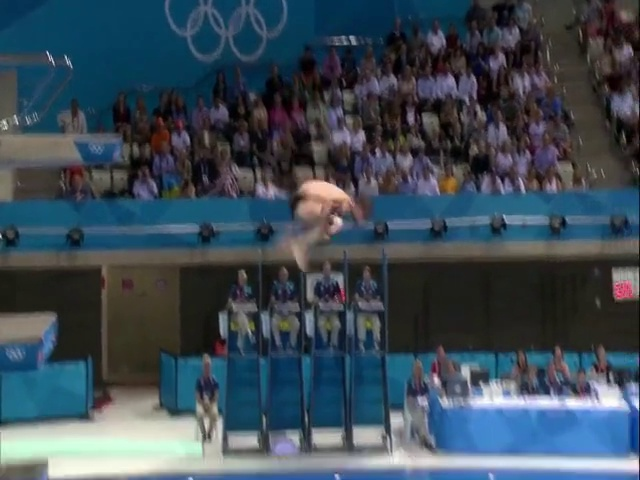diver: (289, 177, 373, 272)
